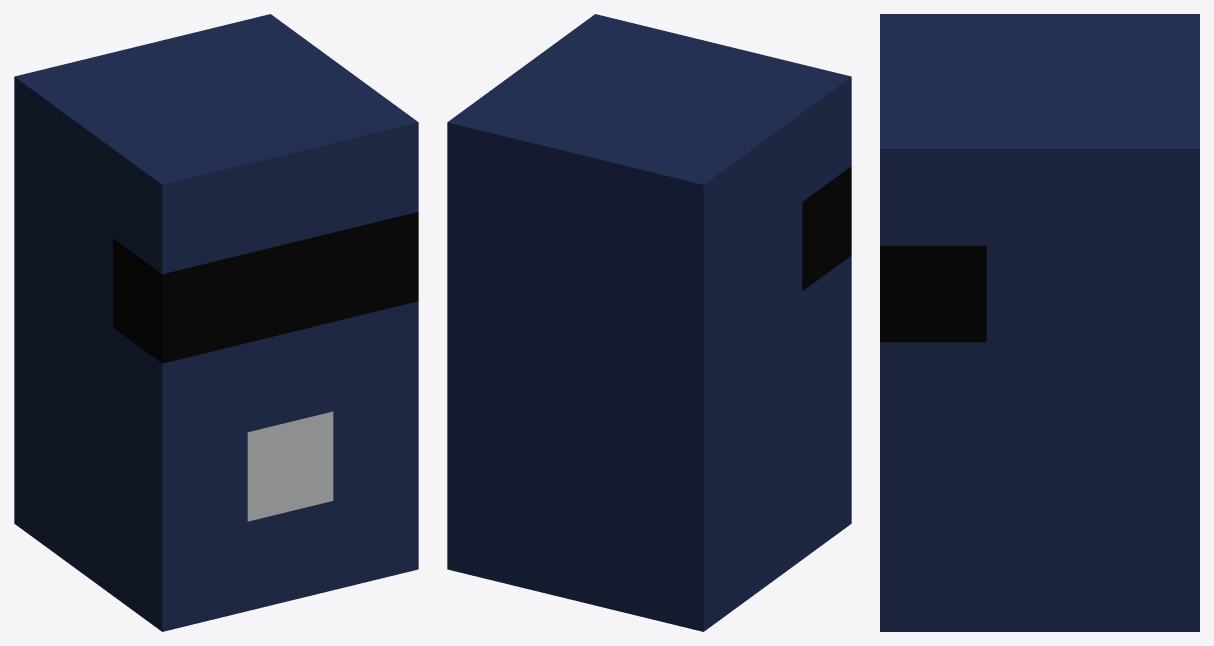
The model's file is trashcan_c.obj.
3 renders of one model, left to right at view 1: azimuth 30°, elevation 25°; view 2: azimuth 150°, elevation 25°; view 3: azimuth 270°, elevation 25°, orthographic. The views are drawn at different scales.
Bounding box in the file's own units: 0.3 × 0.5 × 0.3.
1 material, 1 textured.
